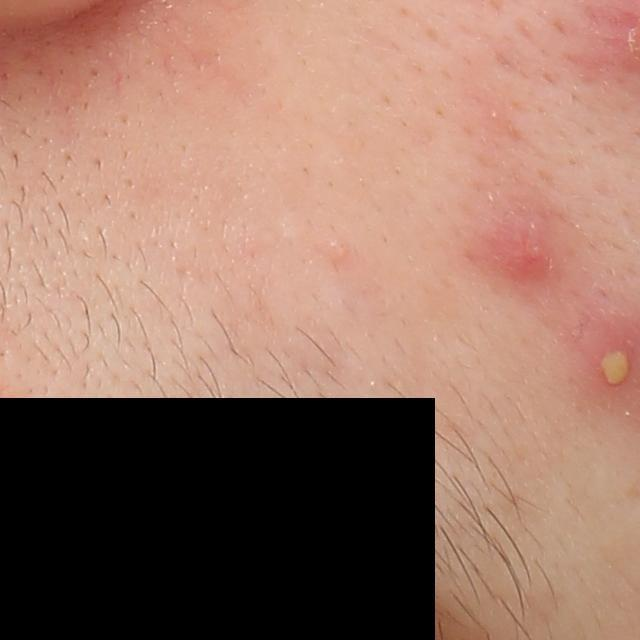papule: (477, 200, 583, 285)
